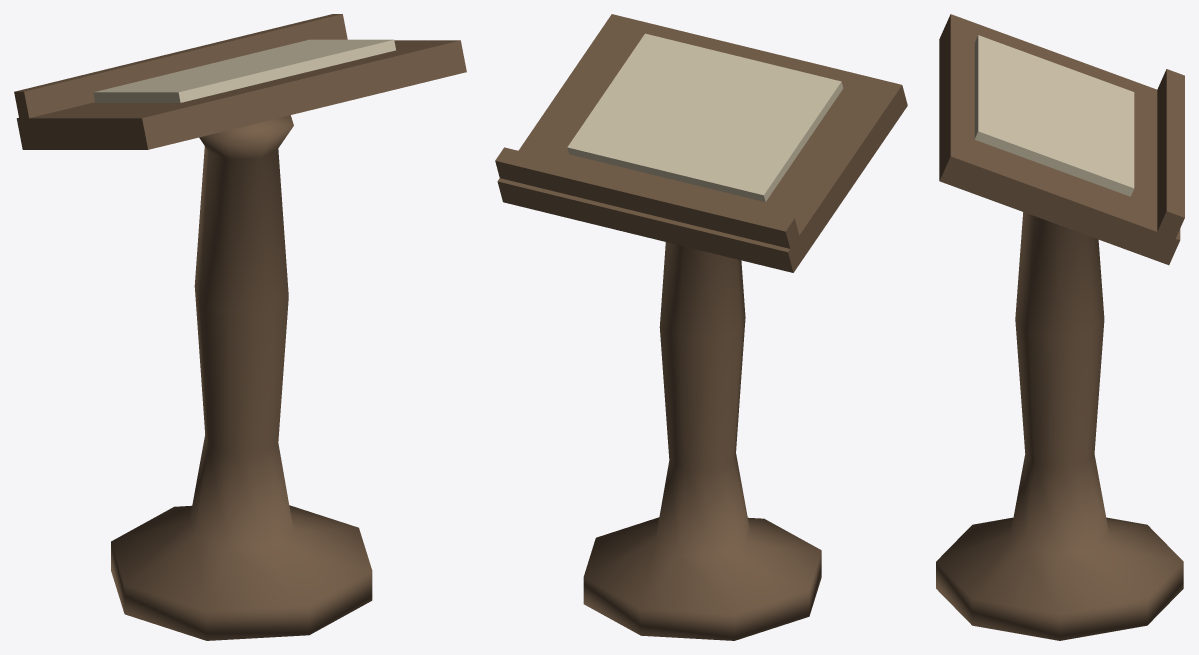
Rendered from Lectern.fbx.
The picture shows the model from 3 angles, left to right: view 1: azimuth 30°, elevation 25°; view 2: azimuth 150°, elevation 25°; view 3: azimuth 270°, elevation 25°; orthographic projection. The views are drawn at different scales.
Visible parts, largest first — view 1: Lectern; view 2: Lectern; view 3: Lectern.
Part boxes in pixels (<box>): Lectern: <box>14,14,466,640</box>; Lectern: <box>495,14,907,640</box>; Lectern: <box>936,14,1184,640</box>.
Size of the model in its own units: 0.68 by 1.13 by 0.5025.
